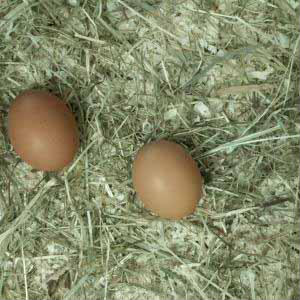egg: (5, 89, 80, 174), (133, 140, 202, 218)
